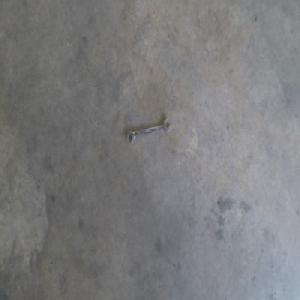Wrench: (126, 118, 171, 145)
